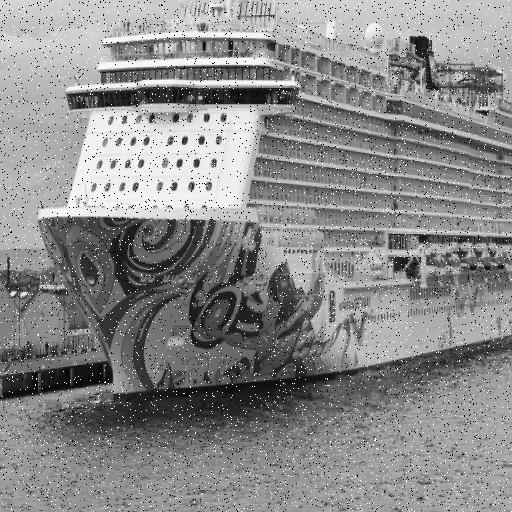cruises: (30, 1, 512, 412)
